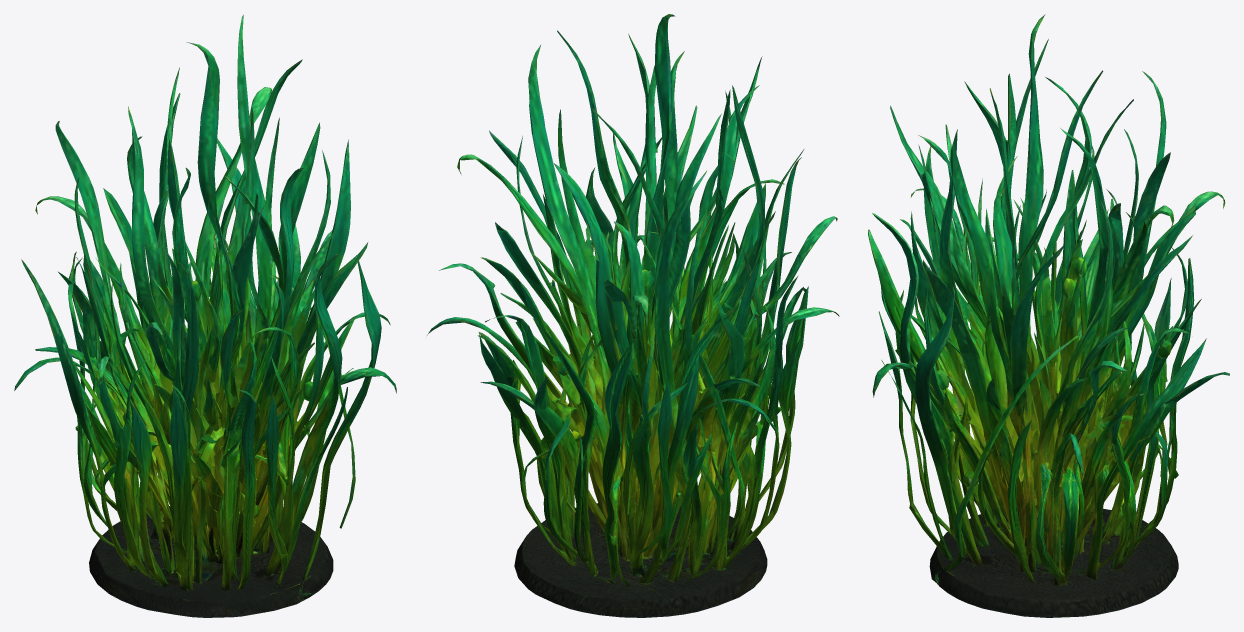
File: bloom_sea_grass.glb
The picture shows the model from 3 angles, left to right: view 1: azimuth 30°, elevation 25°; view 2: azimuth 150°, elevation 25°; view 3: azimuth 270°, elevation 25°; orthographic projection. The views are drawn at different scales.
Size of the model in its own units: 1.36 by 1.9 by 1.16.
1 material, 1 textured.
